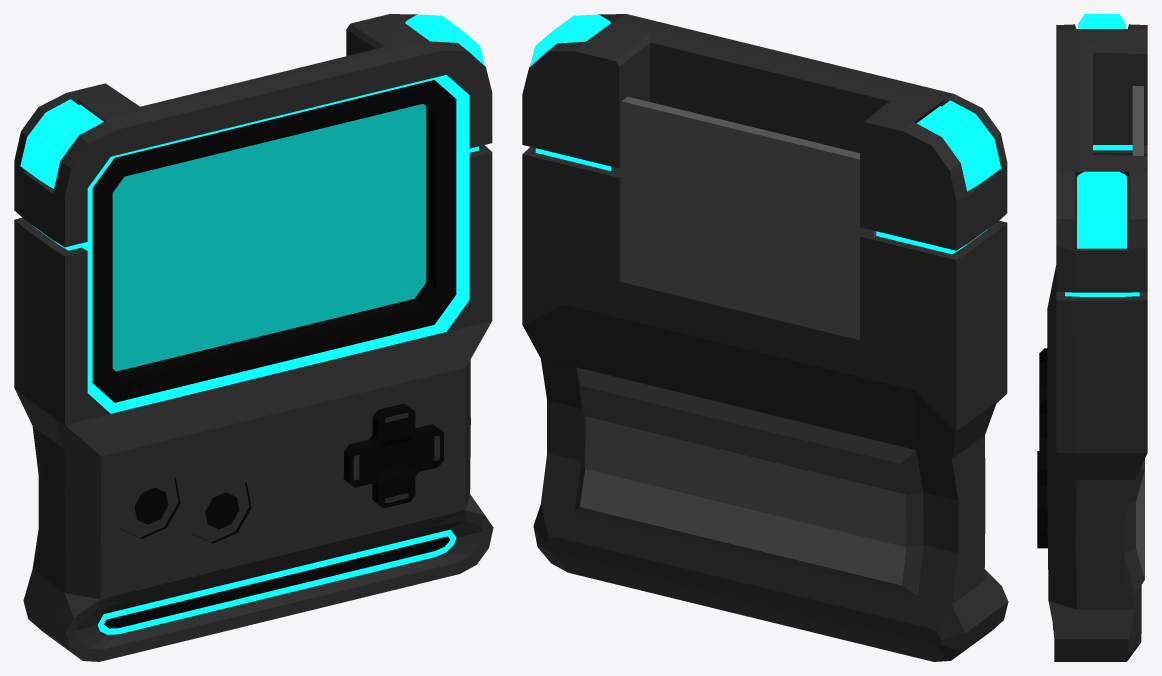
File: Gameboy Cyan.fbx
3 views of the same model, side by side, from view 1: azimuth 30°, elevation 25°; view 2: azimuth 150°, elevation 25°; view 3: azimuth 270°, elevation 25° (orthographic). The views are drawn at different scales.
Visible parts, largest first — view 1: Gameboy; view 2: Gameboy; view 3: Gameboy.
Part boxes in pixels (<box>): Gameboy: <box>14,14,493,661</box>; Gameboy: <box>522,14,1008,661</box>; Gameboy: <box>1037,14,1147,661</box>.
Size of the model in its own units: 252 by 59.54 by 289.
